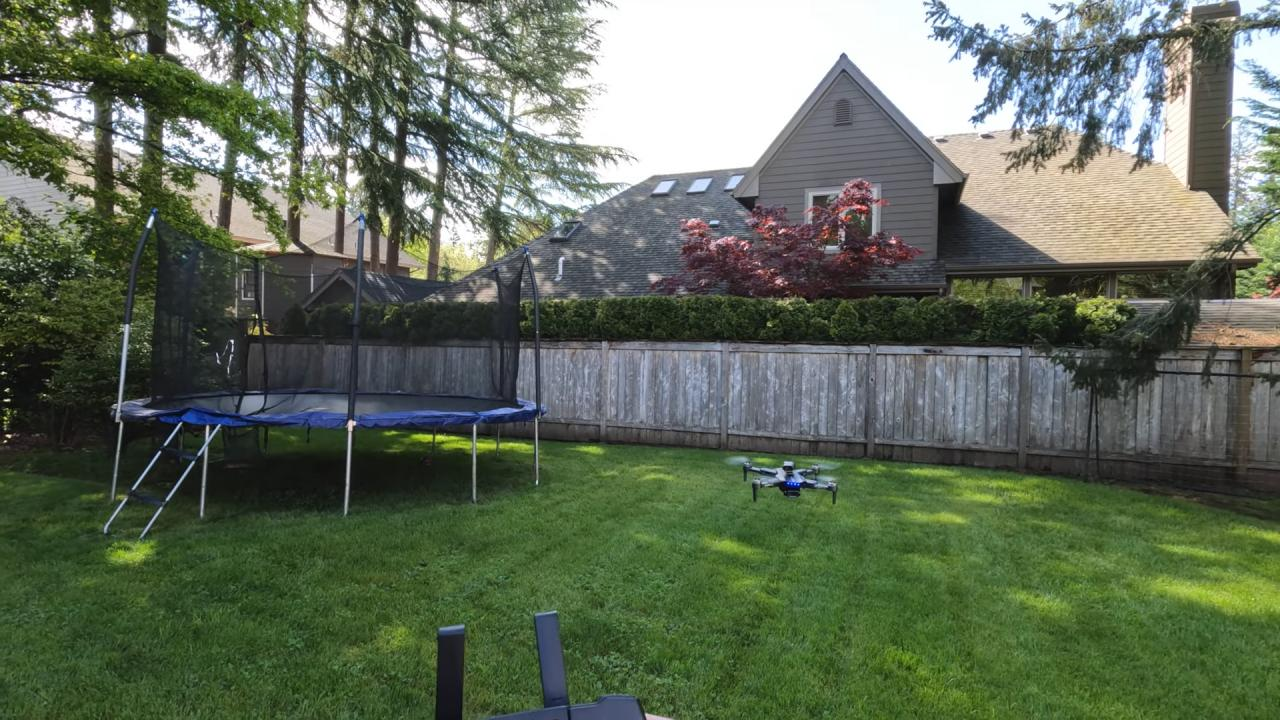Drone: (723, 446, 855, 515)
